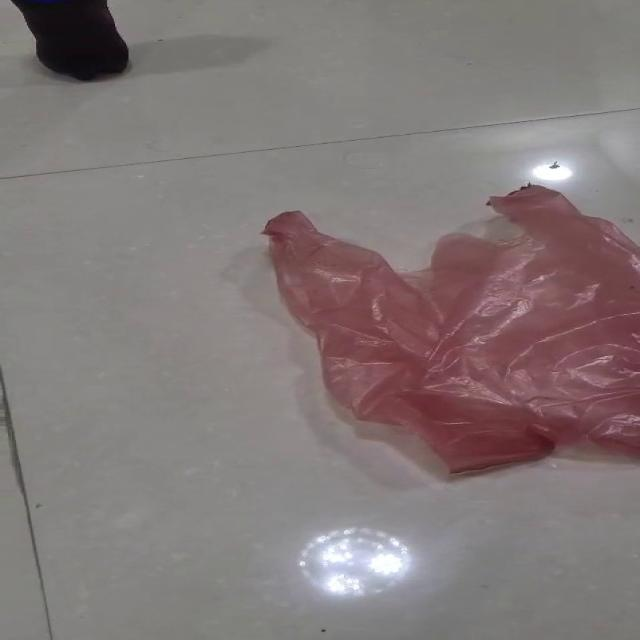plastic: (260, 182, 638, 475)
